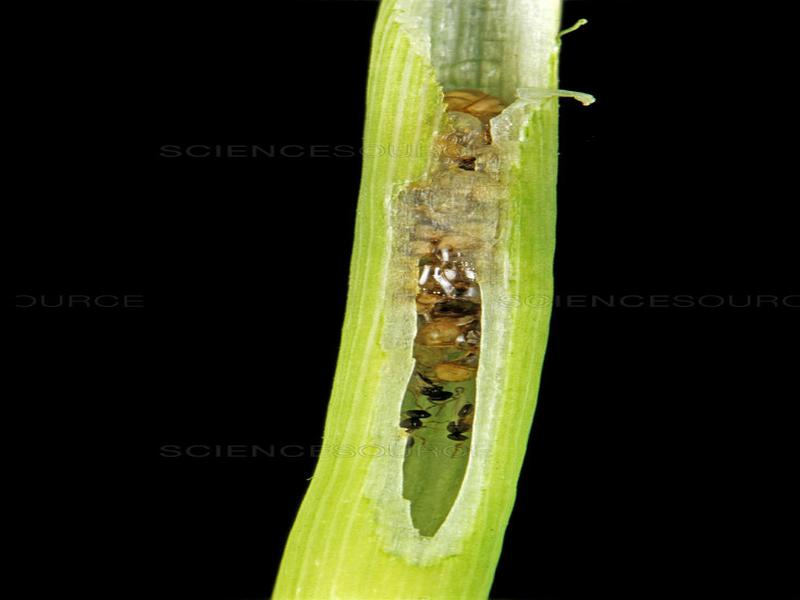Gall_midge: (400, 67, 502, 453)
